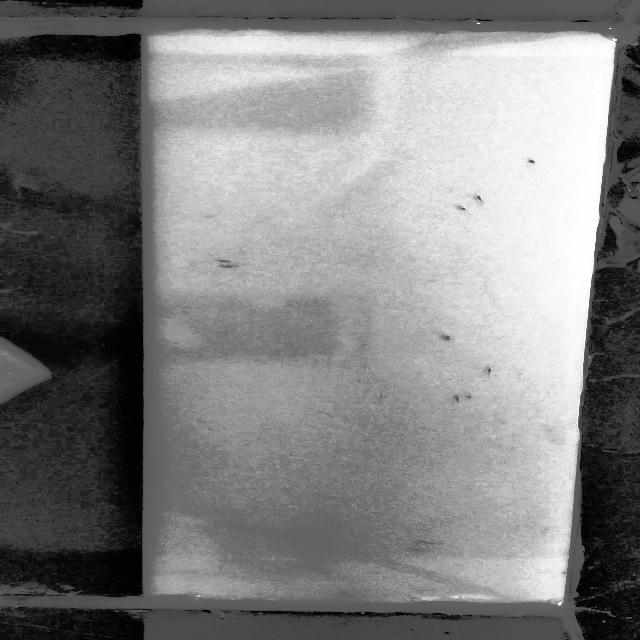shrimp: (332, 588, 360, 601), (447, 201, 472, 215), (522, 156, 550, 167), (408, 538, 440, 547), (211, 258, 252, 265), (404, 545, 433, 554), (488, 366, 507, 378), (453, 391, 468, 405), (438, 332, 460, 341), (472, 192, 487, 205), (213, 265, 249, 270)
